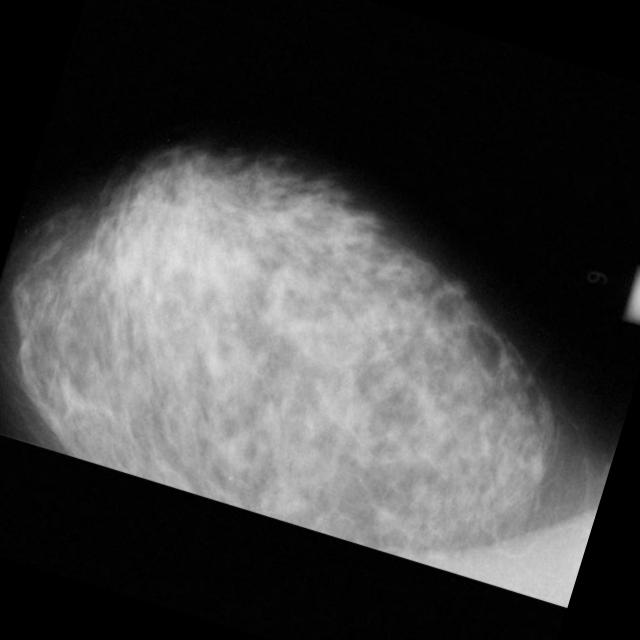ARCH: (268, 479, 312, 524)
